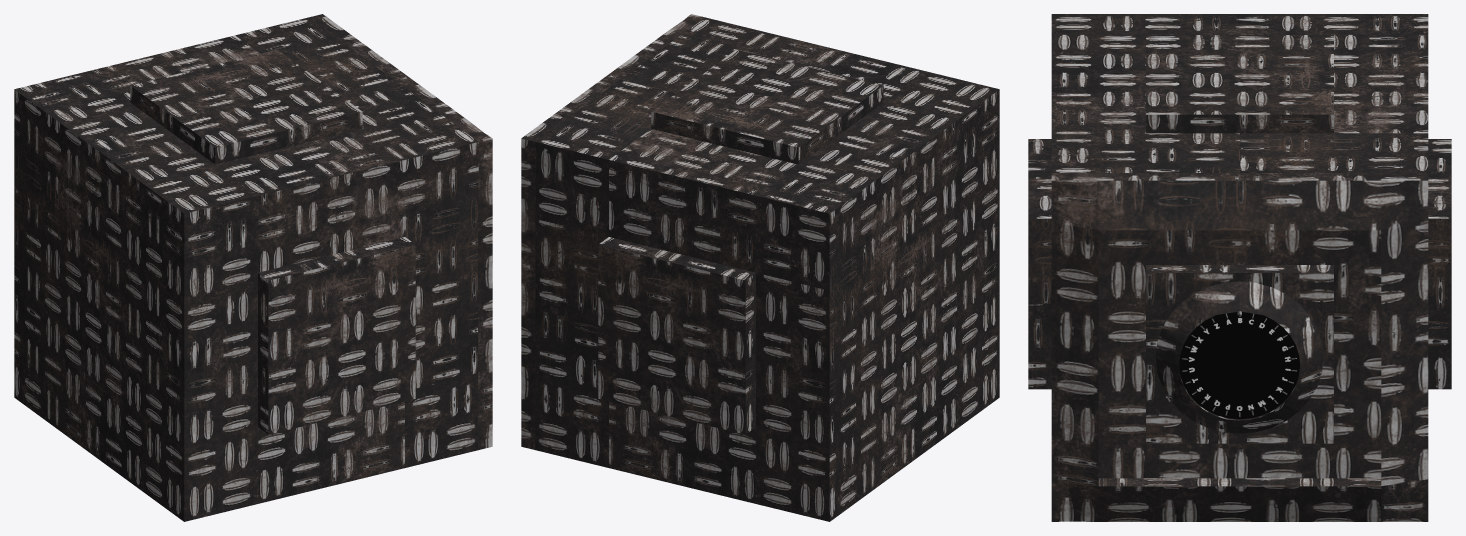
File: Safe.fbx
The picture shows the model from 3 angles, left to right: view 1: azimuth 30°, elevation 25°; view 2: azimuth 150°, elevation 25°; view 3: azimuth 270°, elevation 25°; orthographic projection. The views are drawn at different scales.
Parts seen in each view (by area): view 1: Safe, Door; view 2: Safe, Door; view 3: Door, Safe, Letters, Ring.
Part boxes in pixels (left/top/right/bottom): Safe: left=14, top=17, right=478, bottom=521; Door: left=309, top=14, right=492, bottom=450; Safe: left=535, top=17, right=999, bottom=521; Door: left=521, top=14, right=704, bottom=449; Door: left=1051, top=173, right=1428, bottom=521; Safe: left=1028, top=14, right=1451, bottom=389; Letters: left=1179, top=312, right=1300, bottom=419; Ring: left=1155, top=281, right=1323, bottom=433.
Size of the model in its own units: 2.3 by 2.22 by 2.25.
